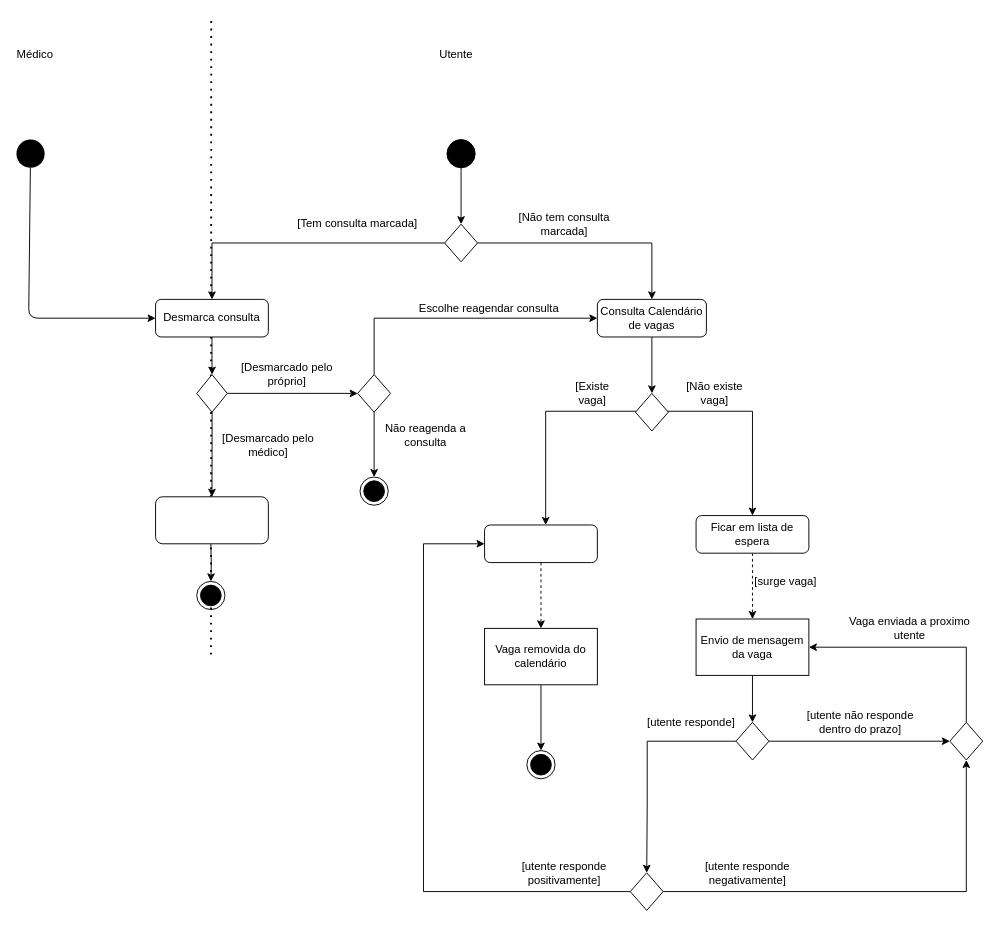
The diagram is 999 pixels wide and 927 high, and some of its shapes have lost their labels. The shapes that lost their labels are listed below. From the top down, each one's box as (x1, y1, x2, y2) in pixels, then its label:
(155, 496, 268, 544): Paciente aguarda novo agendamento
(484, 524, 597, 563): Faz marcação
